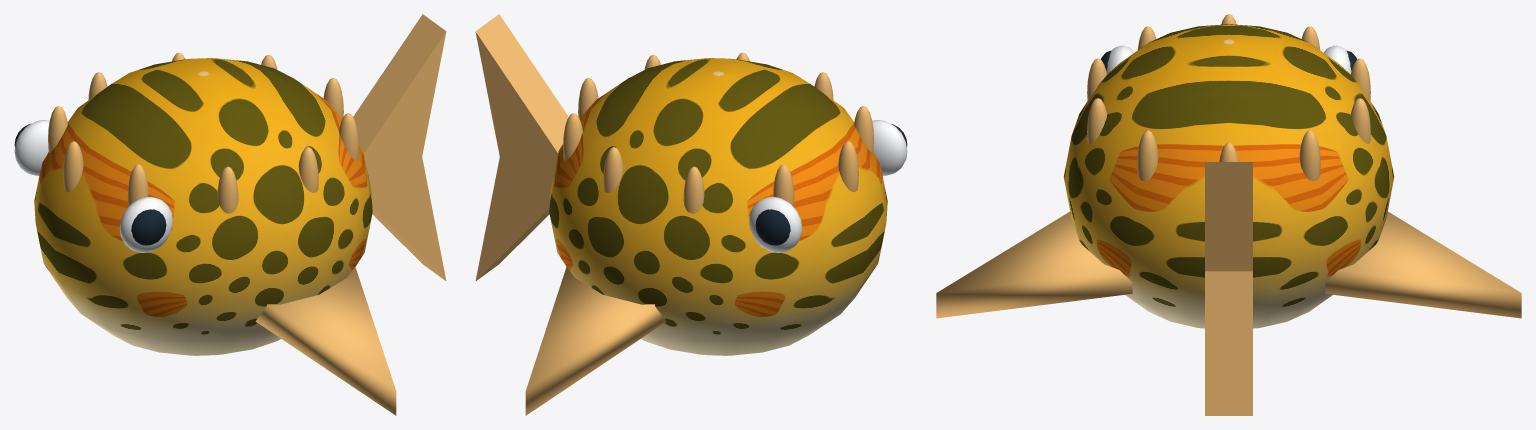
Rendered from pufferfish-BiM_CTan.glb.
3 renders of one model, left to right at view 1: azimuth 30°, elevation 25°; view 2: azimuth 150°, elevation 25°; view 3: azimuth 270°, elevation 25°, orthographic.
Parts seen in each view (by area): view 1: pufferfish_Body, pufferfish_Tail, pufferfish_Fin, pufferfish_Eye.001, pufferfish_Eye, pufferfish_Pupil, pufferfish_Spine.005, pufferfish_Spine.007, pufferfish_Spine.008, pufferfish_Spine.009, pufferfish_Spine.006, pufferfish_Spine.004 (+1 smaller); view 2: pufferfish_Body, pufferfish_Tail, pufferfish_Fin.001, pufferfish_Eye, pufferfish_Eye.001, pufferfish_Pupil.001, pufferfish_Spine.005, pufferfish_Spine.003, pufferfish_Spine.002, pufferfish_Spine.001, pufferfish_Spine.004, pufferfish_Spine.006 (+1 smaller); view 3: pufferfish_Body, pufferfish_Tail, pufferfish_Fin, pufferfish_Fin.001, pufferfish_Spine.001, pufferfish_Spine.009, pufferfish_Spine.002, pufferfish_Spine.008.
Boxes of the visible parts, bbox=[...] form: pufferfish_Body: bbox=[34, 58, 372, 355]; pufferfish_Tail: bbox=[353, 14, 446, 280]; pufferfish_Fin: bbox=[255, 266, 396, 415]; pufferfish_Eye.001: bbox=[14, 120, 49, 175]; pufferfish_Eye: bbox=[119, 197, 172, 252]; pufferfish_Pupil: bbox=[131, 209, 166, 245]; pufferfish_Spine.005: bbox=[63, 141, 83, 192]; pufferfish_Spine.007: bbox=[217, 166, 238, 213]; pufferfish_Spine.008: bbox=[298, 147, 318, 192]; pufferfish_Spine.009: bbox=[339, 113, 358, 160]; pufferfish_Spine.006: bbox=[127, 164, 148, 206]; pufferfish_Spine.004: bbox=[48, 106, 67, 153]; pufferfish_Body: bbox=[549, 58, 887, 355]; pufferfish_Tail: bbox=[475, 14, 568, 280]; pufferfish_Fin.001: bbox=[525, 266, 666, 415]; pufferfish_Eye: bbox=[872, 120, 907, 175]; pufferfish_Eye.001: bbox=[749, 197, 802, 252]; pufferfish_Pupil.001: bbox=[755, 209, 790, 245]; pufferfish_Spine.005: bbox=[838, 141, 858, 192]; pufferfish_Spine.003: bbox=[683, 166, 704, 213]; pufferfish_Spine.002: bbox=[603, 147, 623, 192]; pufferfish_Spine.001: bbox=[563, 113, 582, 160]; pufferfish_Spine.004: bbox=[773, 164, 794, 206]; pufferfish_Spine.006: bbox=[854, 106, 873, 153]; pufferfish_Body: bbox=[1063, 24, 1394, 328]; pufferfish_Tail: bbox=[1205, 162, 1252, 415]; pufferfish_Fin: bbox=[936, 211, 1132, 318]; pufferfish_Fin.001: bbox=[1325, 211, 1521, 318]; pufferfish_Spine.001: bbox=[1299, 130, 1320, 181]; pufferfish_Spine.009: bbox=[1137, 130, 1158, 181]; pufferfish_Spine.002: bbox=[1350, 98, 1370, 143]; pufferfish_Spine.008: bbox=[1087, 98, 1107, 143].
Size of the model in its own units: 1.36 by 0.9117 by 1.78.
4 materials, 1 textured.
